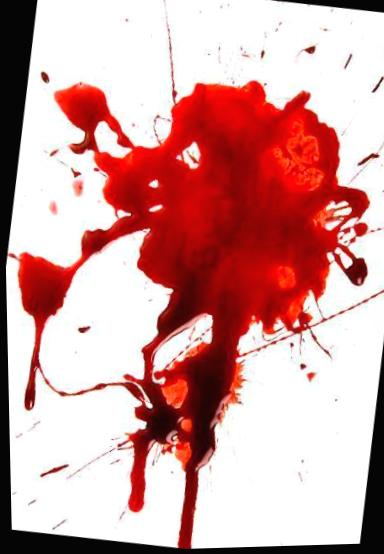Fire: (8, 82, 369, 550)
